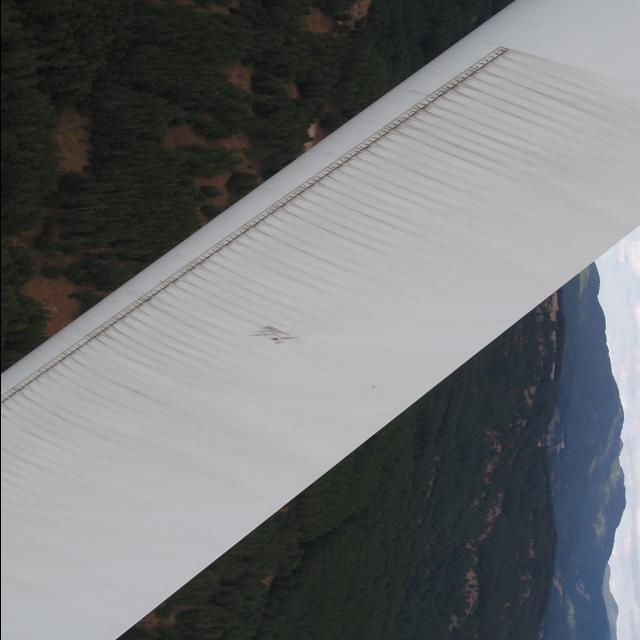Coating_defects: (251, 321, 301, 353)
